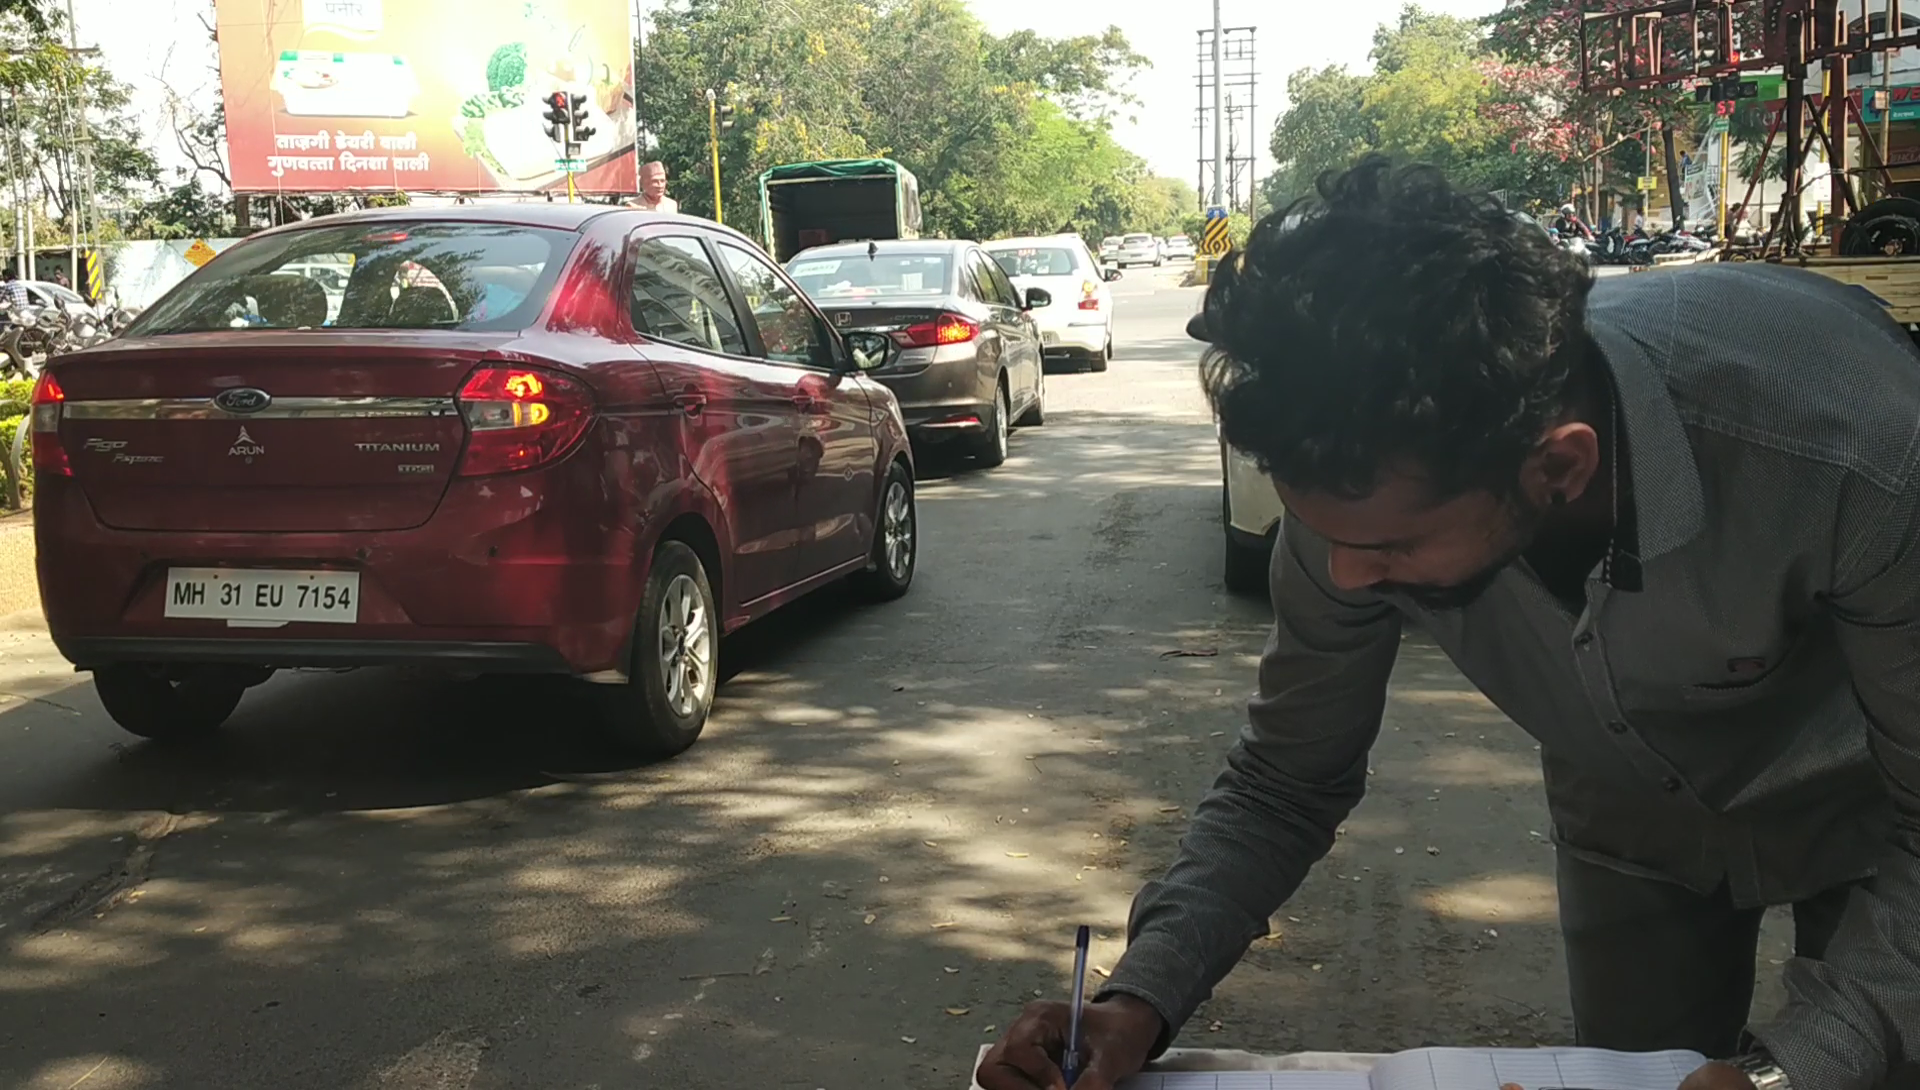car: (36, 188, 947, 765)
numplate: (168, 567, 356, 635)
